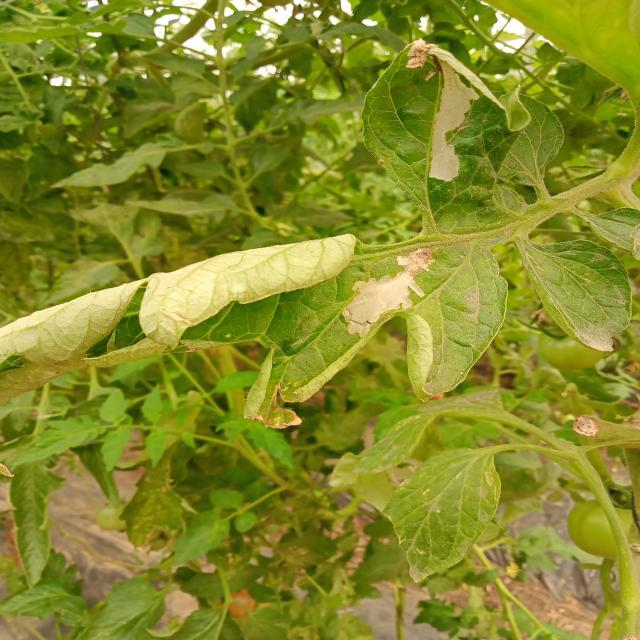Tuta absoluta: (401, 20, 540, 185), (329, 245, 444, 342)
